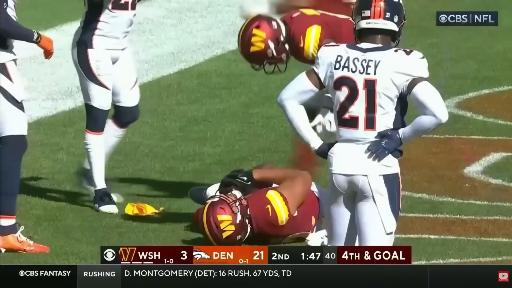Helmet: (238, 15, 290, 74), (198, 190, 250, 245), (352, 0, 406, 47)
Jersey: (314, 43, 428, 174), (246, 187, 319, 244), (281, 9, 354, 64), (75, 0, 137, 49), (312, 0, 353, 16), (0, 35, 17, 63)
Player: (279, 0, 448, 245), (72, 0, 139, 213), (0, 0, 53, 252), (194, 167, 325, 245), (238, 9, 354, 73), (239, 9, 354, 73), (241, 0, 355, 18), (307, 108, 335, 142)
